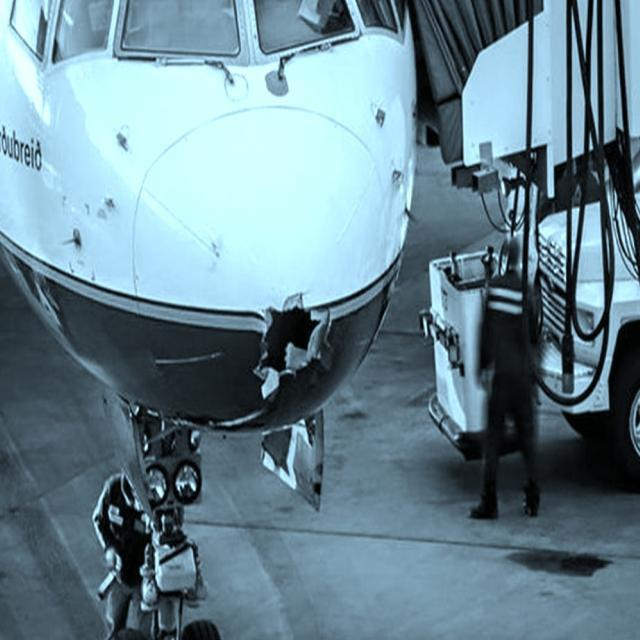crack: (251, 291, 334, 388)
